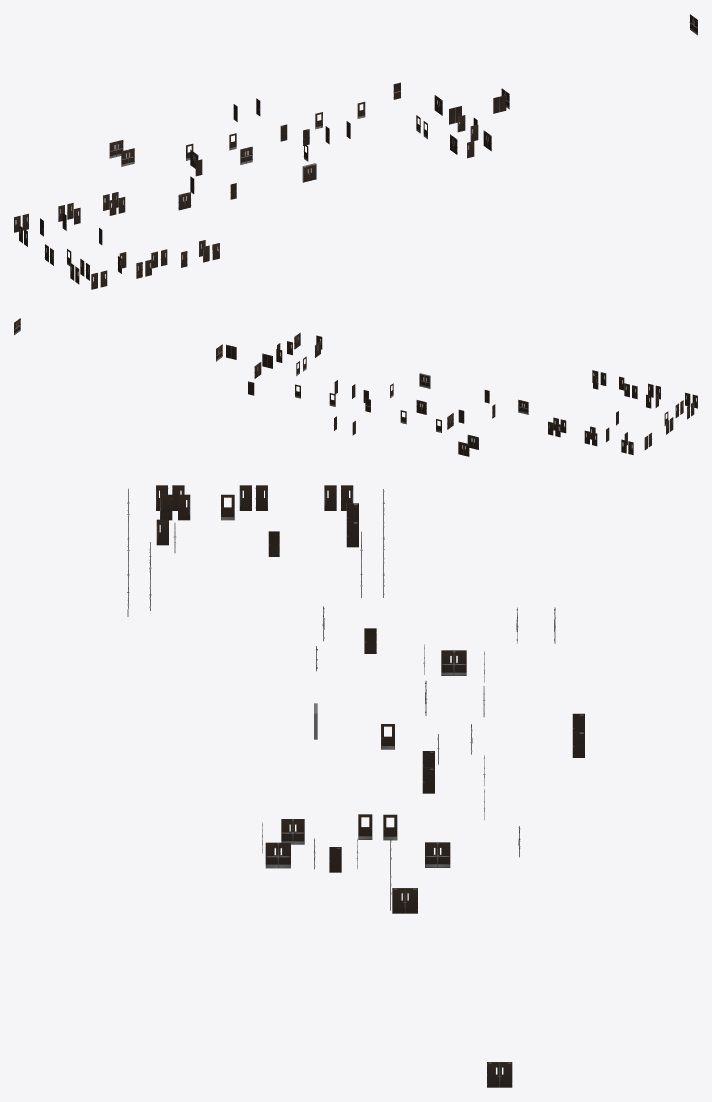
File: envFirstFloor_Doors.fbx
3 views of the same model, one above another, from view 1: azimuth 30°, elevation 25°; view 2: azimuth 150°, elevation 25°; view 3: azimuth 270°, elevation 25° (orthographic). The views are drawn at different scales.
Visible parts, largest first — view 1: envFirstFloor_Doors; view 2: envFirstFloor_Doors; view 3: envFirstFloor_Doors.
Part boxes in pixels (x1,y1,x2,y2): envFirstFloor_Doors: [14, 14, 697, 289]; envFirstFloor_Doors: [14, 318, 697, 456]; envFirstFloor_Doors: [127, 485, 584, 1087].
Bounding box in the file's own units: 10343 × 217 × 3464.
Materials: 2 (1 with a texture image).
